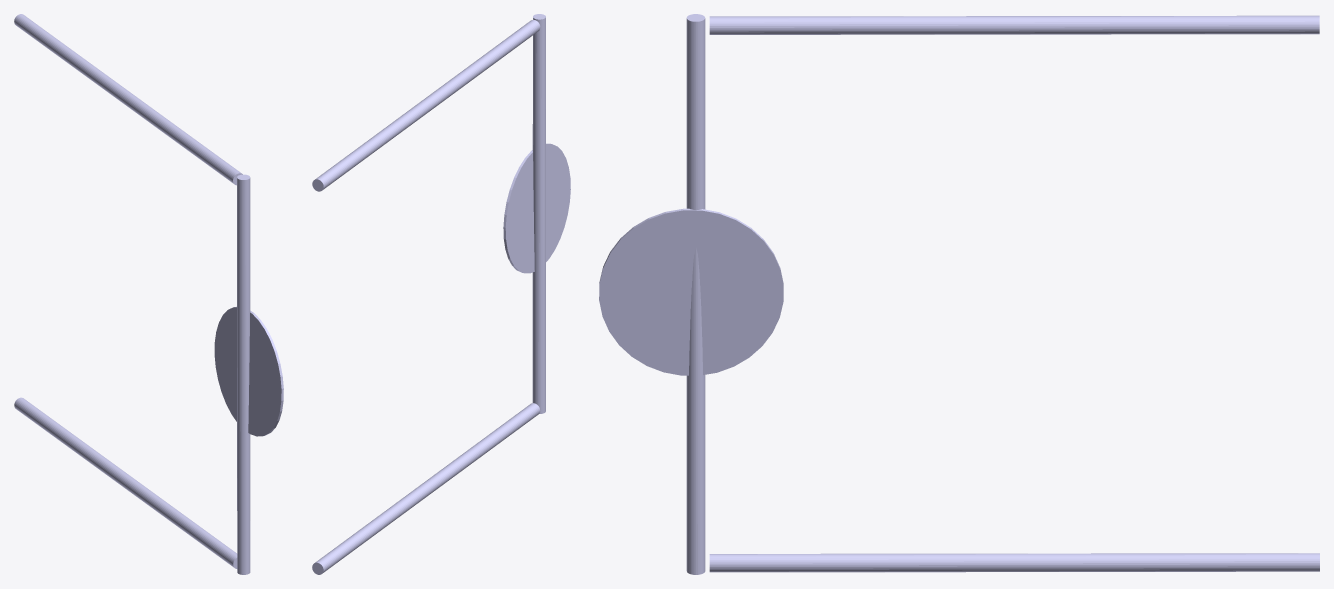
File: PROCaN_Shape__62__.dae
3 renders of one model, left to right at view 1: azimuth 30°, elevation 25°; view 2: azimuth 150°, elevation 25°; view 3: azimuth 270°, elevation 25°, orthographic. The views are drawn at different scales.
Parts seen in each view (by area): view 1: Node_0000026EEE537420; view 2: Node_0000026EEE537420; view 3: Node_0000026EEE537420.
Part boxes in pixels (bbox=[...]): Node_0000026EEE537420: bbox=[14, 14, 283, 574]; Node_0000026EEE537420: bbox=[312, 14, 570, 574]; Node_0000026EEE537420: bbox=[599, 14, 1319, 574].
Size of the model in its own units: 0.0058 by 0.165 by 0.1945.
